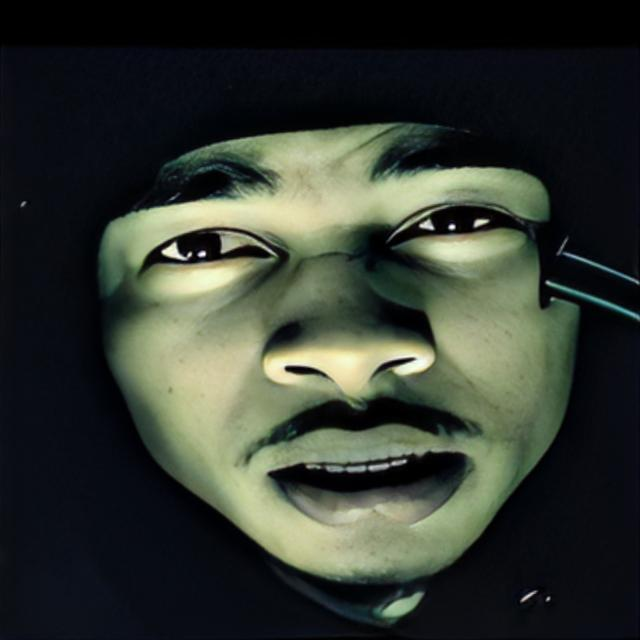neutral: (93, 110, 583, 582)
